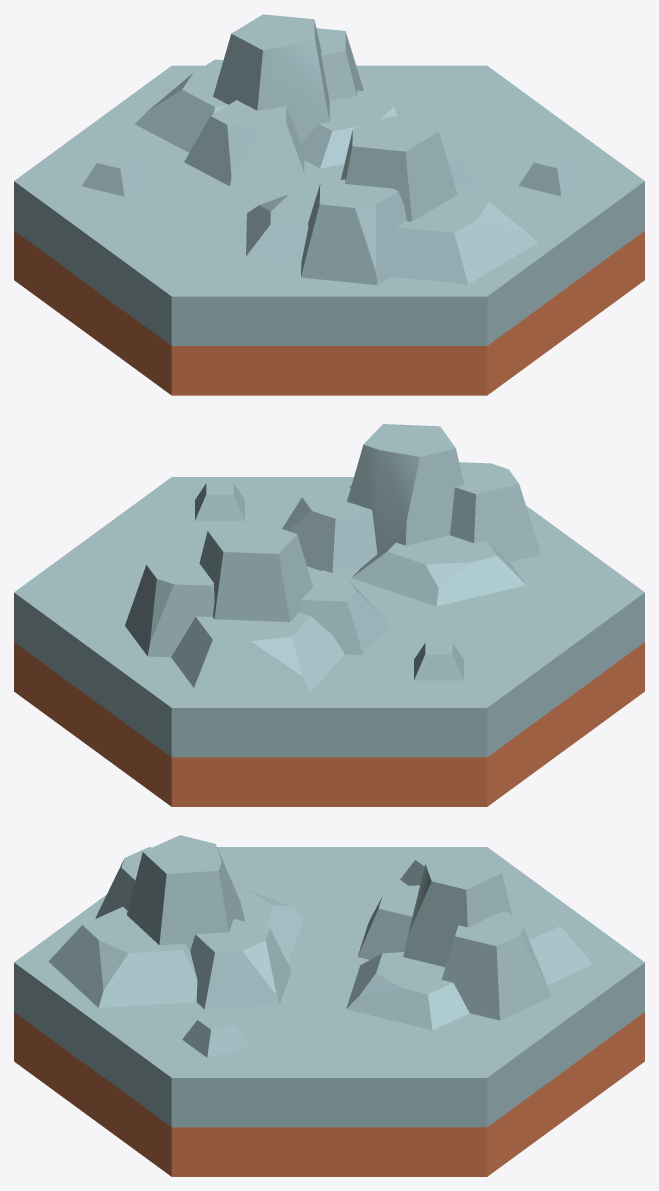
File: Stone Rocks.glb
3 views of the same model, one above another, from view 1: azimuth 30°, elevation 25°; view 2: azimuth 150°, elevation 25°; view 3: azimuth 270°, elevation 25° (orthographic).
Visible parts, largest first — view 1: stone_rocks, rockLarge, rockLarge.001, rock.001, rock; view 2: stone_rocks, rockLarge, rockLarge.001, rock, rock.001; view 3: stone_rocks, rockLarge, rockLarge.001, rock.001.
Boxes of the visible parts, x1,y1,x2,y2 form: stone_rocks: (14,65,644,395); rockLarge: (246,114,537,284); rockLarge.001: (135,14,417,186); rock.001: (519,152,585,196); rock: (82,153,149,196); stone_rocks: (14,477,644,806); rockLarge: (282,424,541,606); rockLarge.001: (125,522,389,692); rock: (414,643,463,680); rock.001: (195,483,244,520); stone_rocks: (14,847,644,1176); rockLarge: (48,835,304,1009); rockLarge.001: (346,852,592,1030); rock.001: (182,1014,249,1057).
Size of the model in its own units: 1 by 0.4061 by 1.15.
